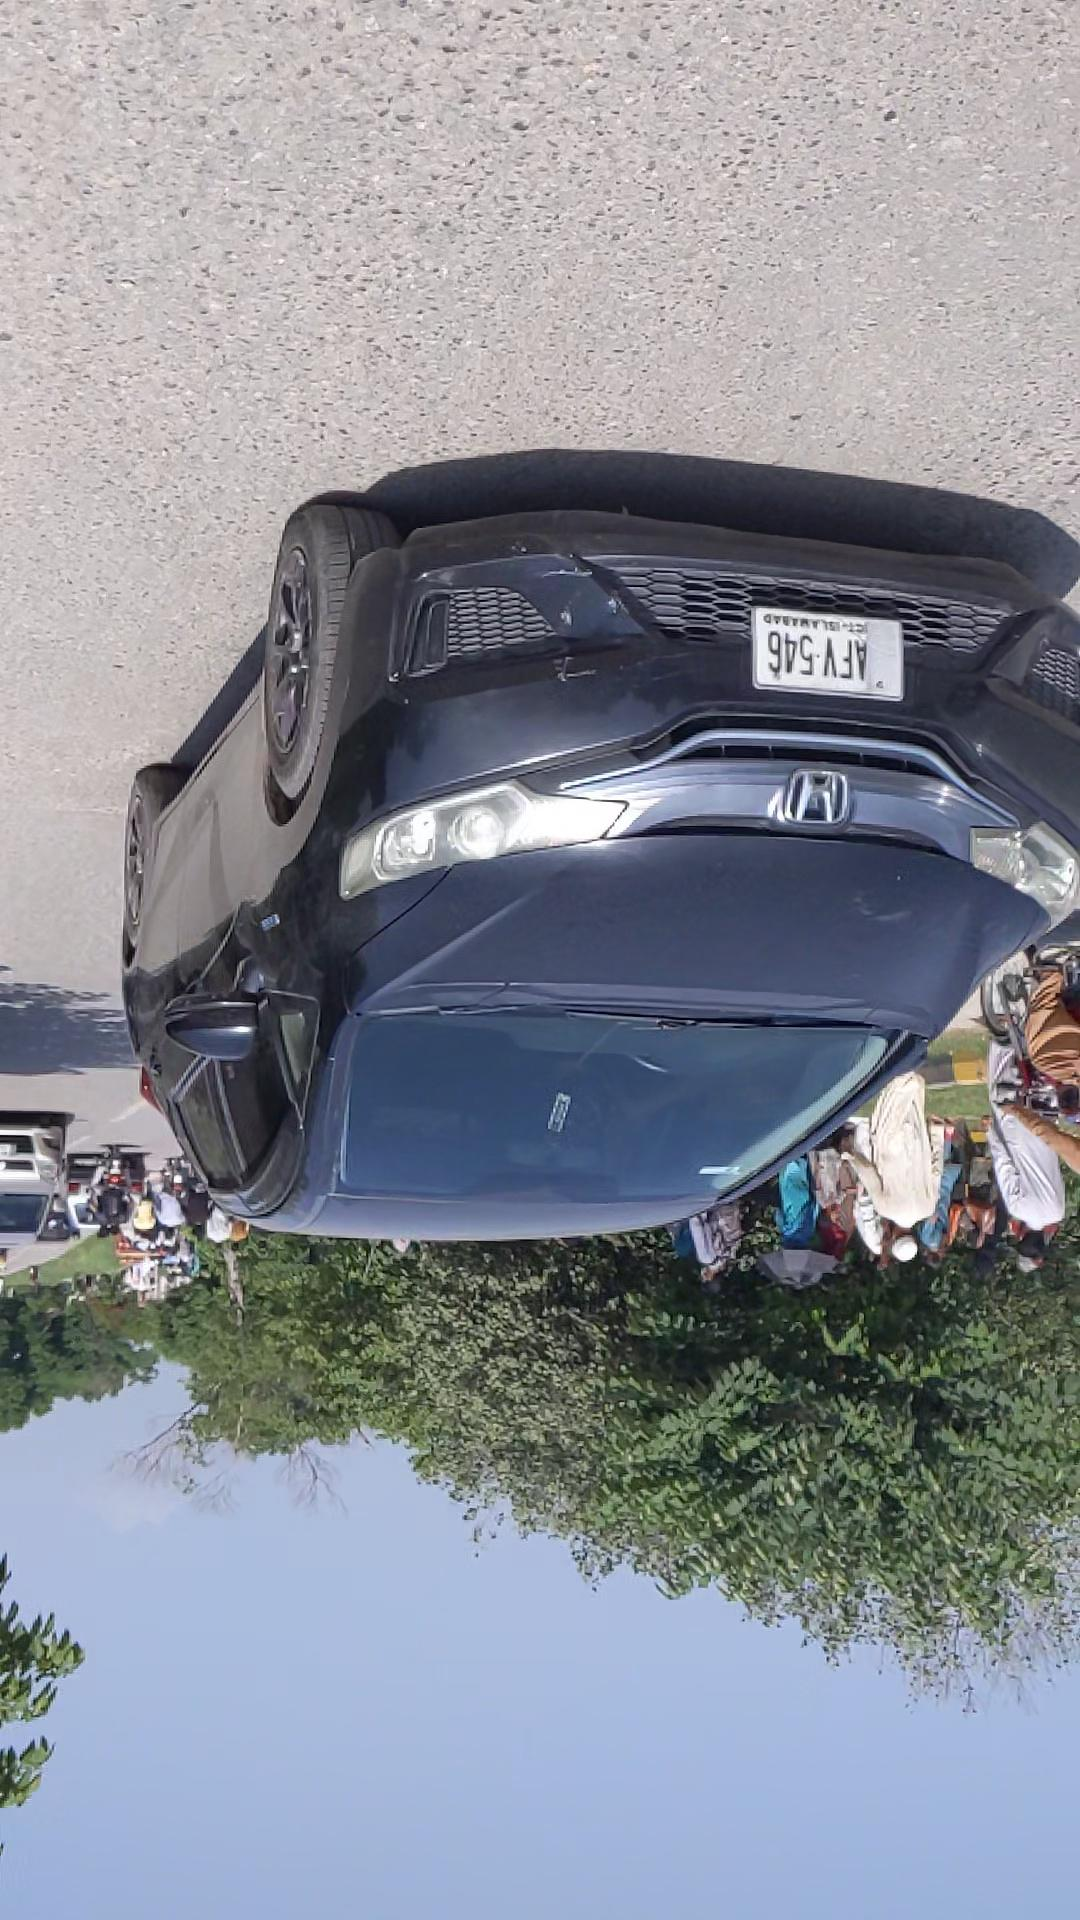windshield: (136, 700, 766, 955)
